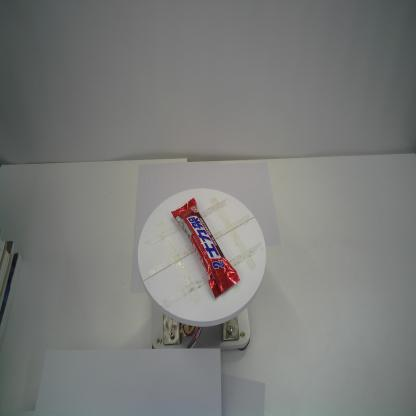Chocolate: (169, 196, 243, 300)
